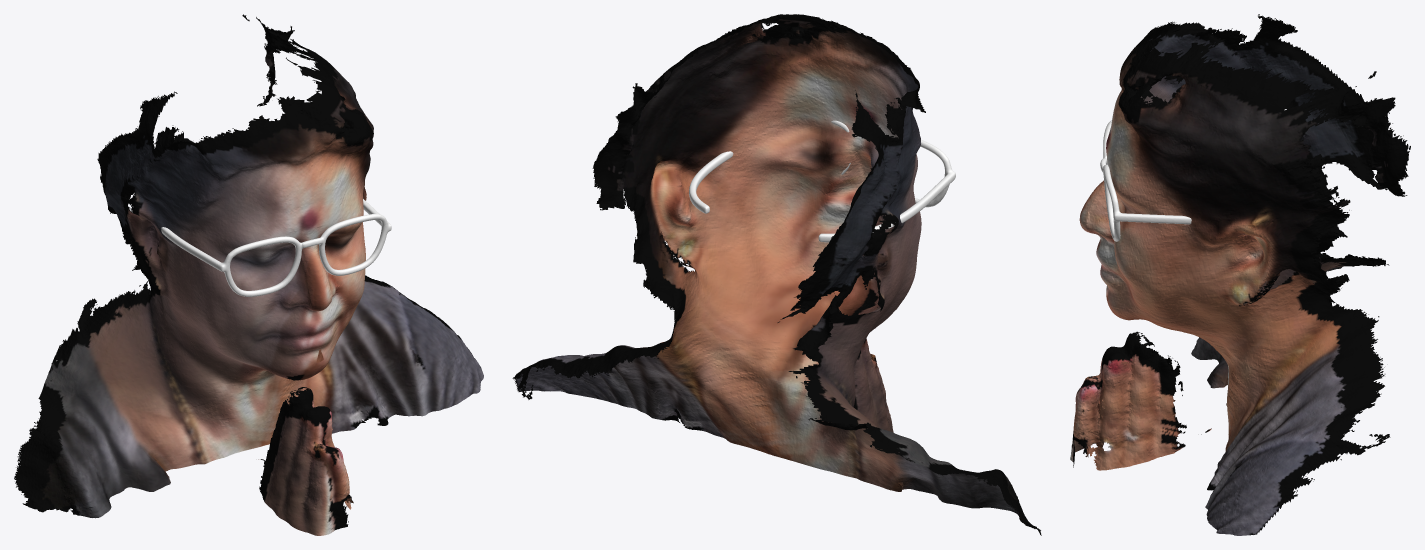
File: nagarathna.glb
3 views of the same model, side by side, from view 1: azimuth 30°, elevation 25°; view 2: azimuth 150°, elevation 25°; view 3: azimuth 270°, elevation 25° (orthographic). The views are drawn at different scales.
Parts seen in each view (by area): view 1: nagarathna_dec24_ply.001, framert; view 2: nagarathna_dec24_ply.001, framert; view 3: nagarathna_dec24_ply.001, framert.
Part boxes in pixels (left/top/right/bottom): nagarathna_dec24_ply.001: left=14, top=14, right=483, bottom=535; framert: left=161, top=199, right=391, bottom=296; nagarathna_dec24_ply.001: left=512, top=14, right=1041, bottom=535; framert: left=689, top=120, right=955, bottom=242; nagarathna_dec24_ply.001: left=1070, top=14, right=1410, bottom=535; framert: left=1100, top=120, right=1191, bottom=241.
Bounding box in the file's own units: 374 × 321 × 227.
